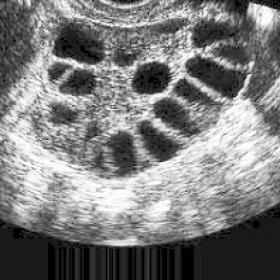PCOS: (187, 62, 247, 89), (63, 33, 106, 65), (136, 124, 181, 153), (194, 16, 235, 42), (132, 68, 170, 89), (114, 131, 135, 168), (182, 84, 205, 117), (161, 100, 180, 136), (71, 70, 93, 96), (222, 47, 254, 60), (54, 104, 74, 124), (109, 50, 141, 62), (95, 151, 111, 173), (89, 121, 102, 139), (50, 64, 62, 76)
